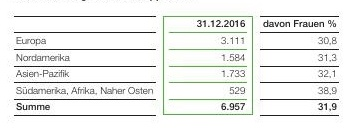table: (0, 0, 359, 131)
